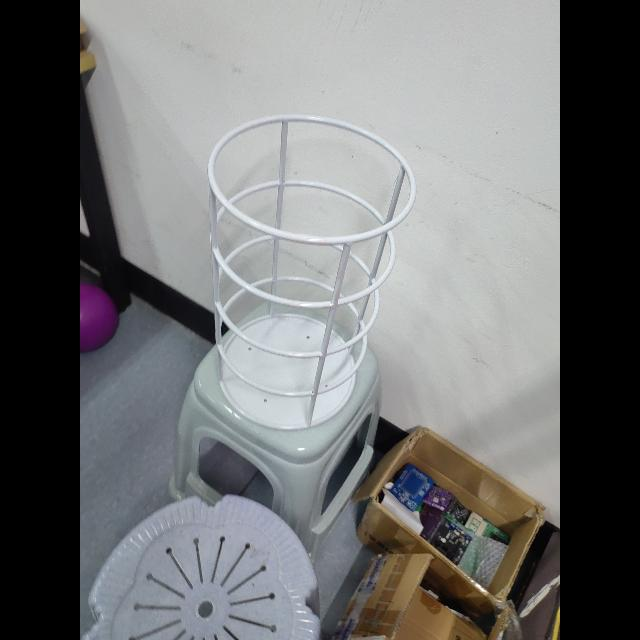S: (202, 111, 418, 437)
